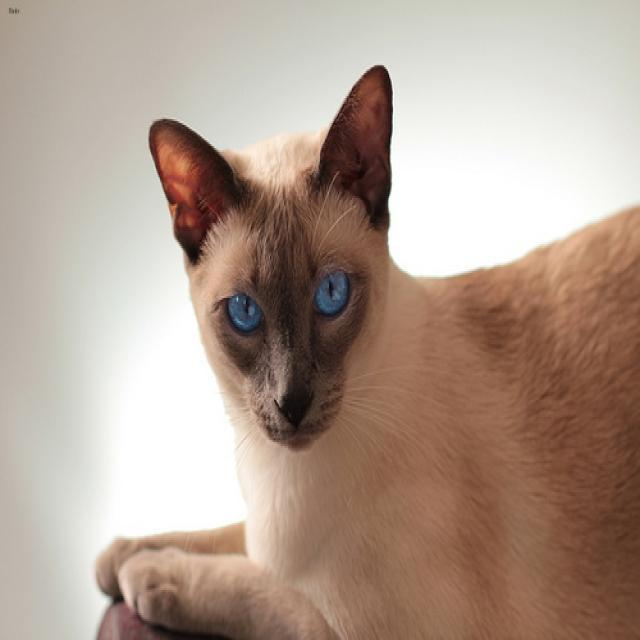Siamese: (147, 61, 389, 448)
